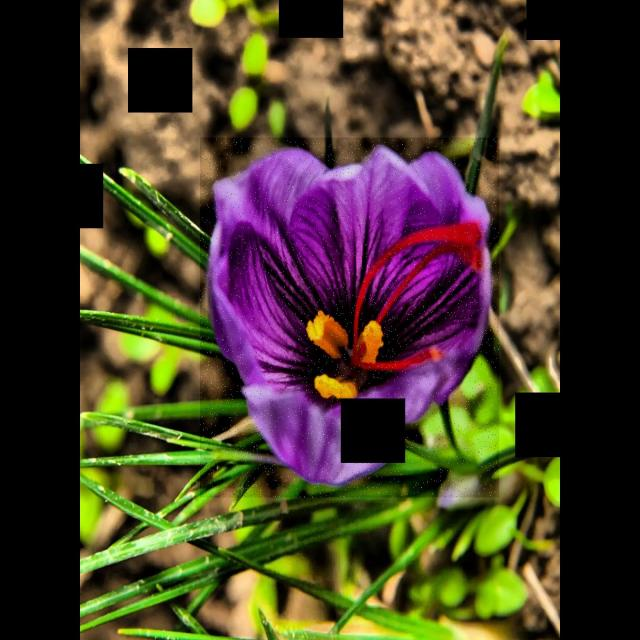Flower: (200, 137, 499, 497)
stigma: (352, 217, 485, 350), (374, 238, 486, 328), (350, 346, 446, 374)
